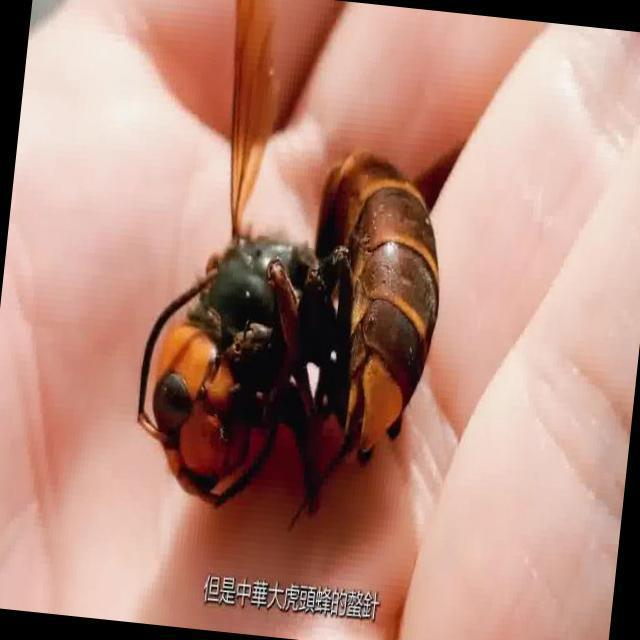Wasp: (144, 2, 440, 519)
